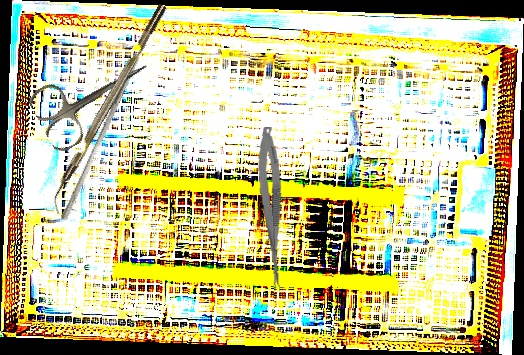Chopper: (43, 3, 177, 216)
Iris Scissors: (25, 37, 164, 156)
Micro Scissor: (253, 126, 292, 295)
Pusher: (60, 50, 141, 224)
